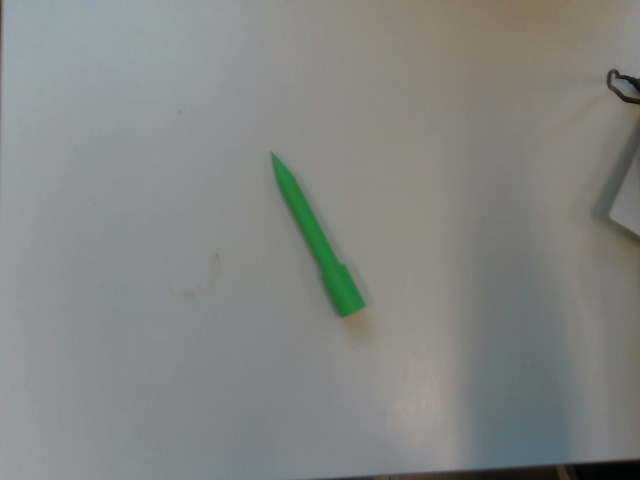Probe: (265, 142, 372, 327)
